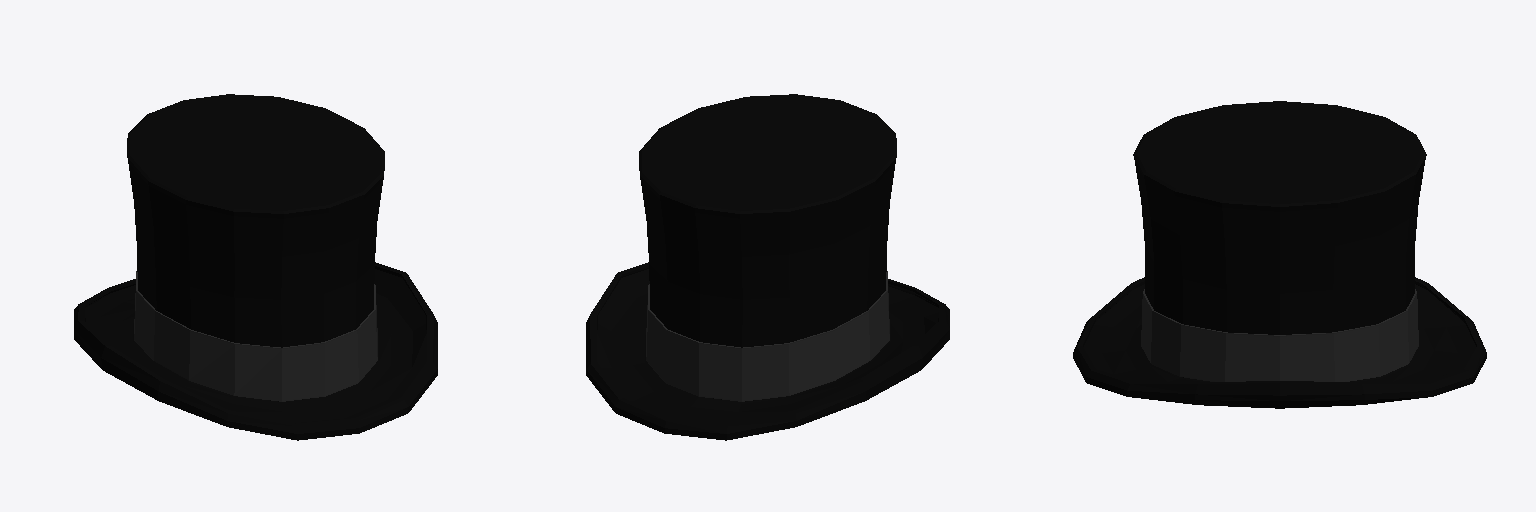
The model's file is TopHat.obj.
The picture shows the model from 3 angles: view 1: azimuth 30°, elevation 25°; view 2: azimuth 150°, elevation 25°; view 3: azimuth 270°, elevation 25°; orthographic projection.
Visible parts, largest first — view 1: Top_Hat01; view 2: Top_Hat01; view 3: Top_Hat01.
Boxes of the visible parts, <box> form: Top_Hat01: <box>74,94,437,440</box>; Top_Hat01: <box>586,94,949,440</box>; Top_Hat01: <box>1073,101,1486,408</box>.
Bounding box in the file's own units: 40.14 × 25.6 × 46.46.